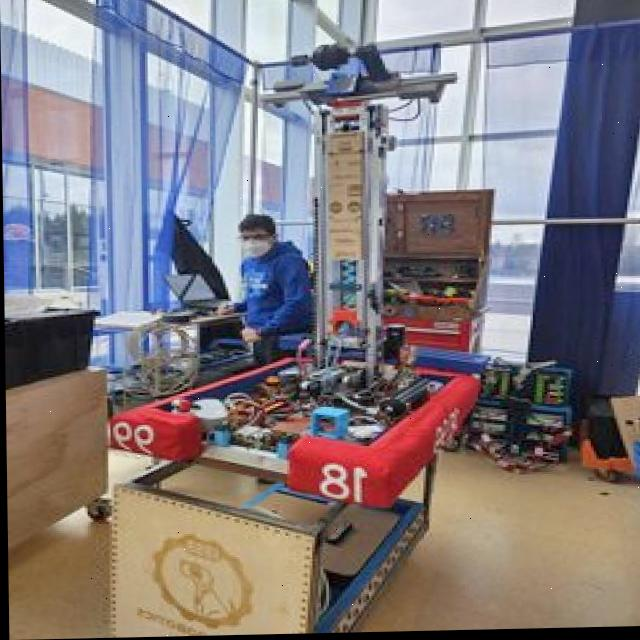robot: (88, 27, 497, 519)
